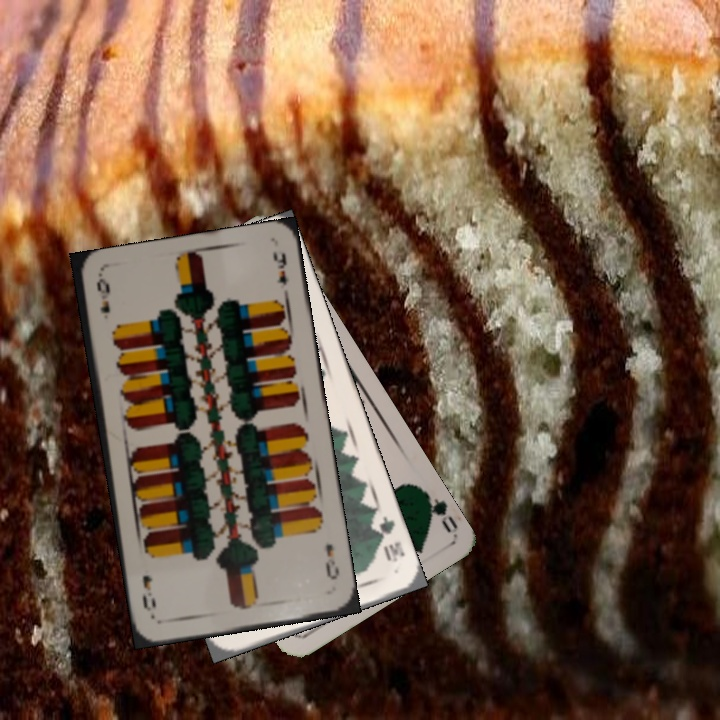E9: (321, 539, 342, 583), (92, 274, 113, 316)
G10: (370, 511, 408, 565)
GO: (413, 484, 461, 536)
